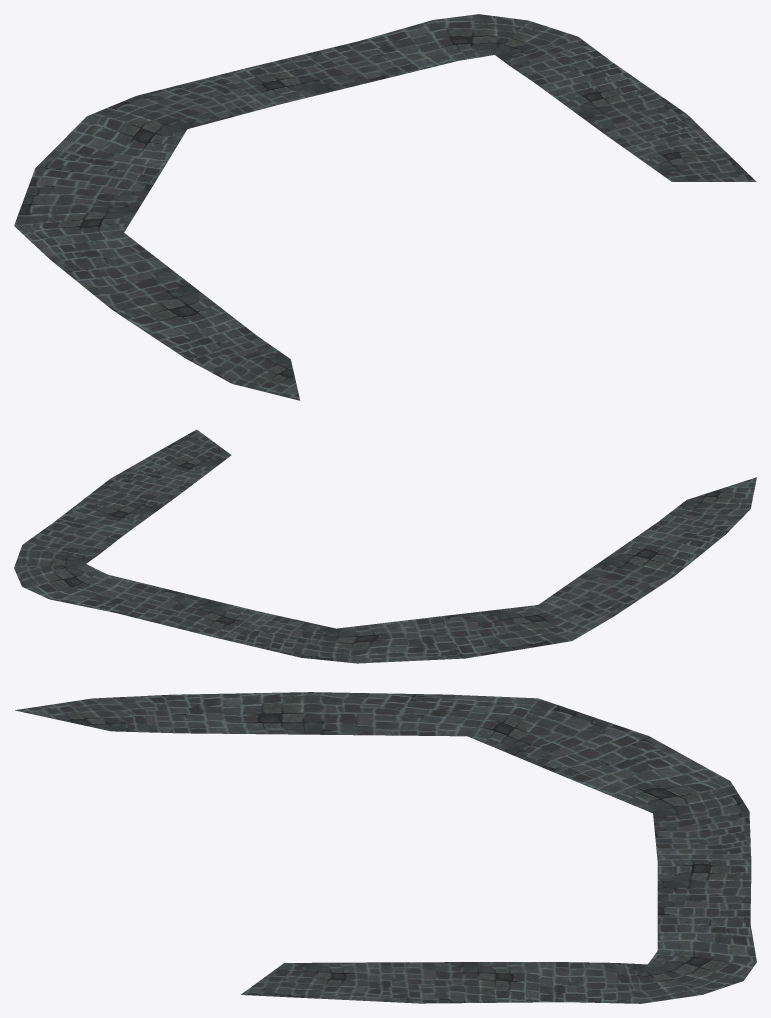
The model's file is blend_brick02.fbx.
3 views of the same model, one above another, from view 1: azimuth 30°, elevation 25°; view 2: azimuth 150°, elevation 25°; view 3: azimuth 270°, elevation 25° (orthographic). The views are drawn at different scales.
Visible parts, largest first — view 1: obj0.001; view 2: obj0.001; view 3: obj0.001.
Boxes of the visible parts, box(x1,y1,x2,y2) form: obj0.001: box(14, 14, 756, 400); obj0.001: box(14, 429, 756, 663); obj0.001: box(15, 692, 756, 1003).
Bounding box in the file's own units: 16.51 × 0.0958 × 16.44.
